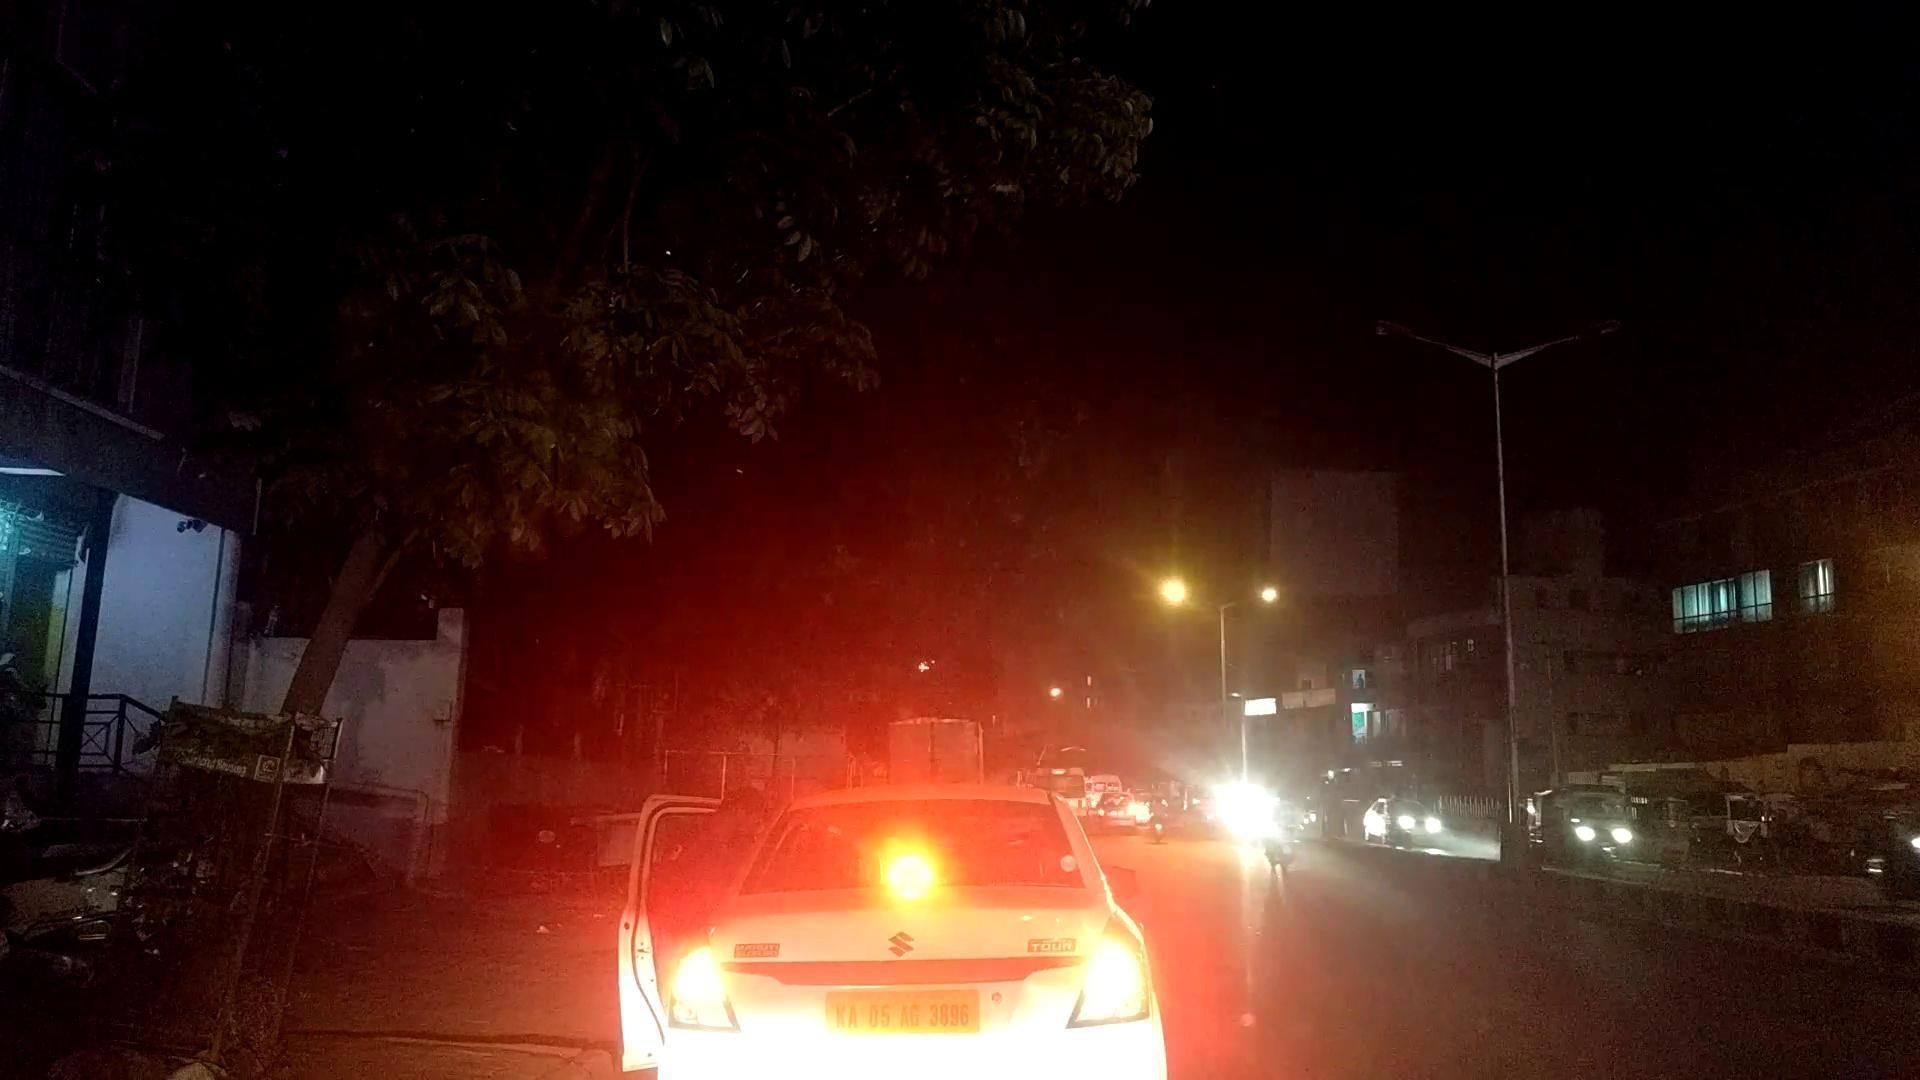on: (960, 232, 1462, 1004)
